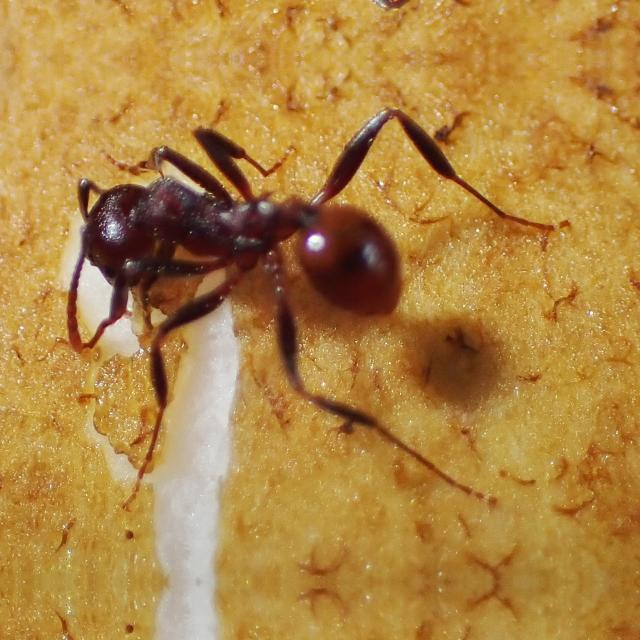Apheanogaster: (56, 137, 428, 335)
